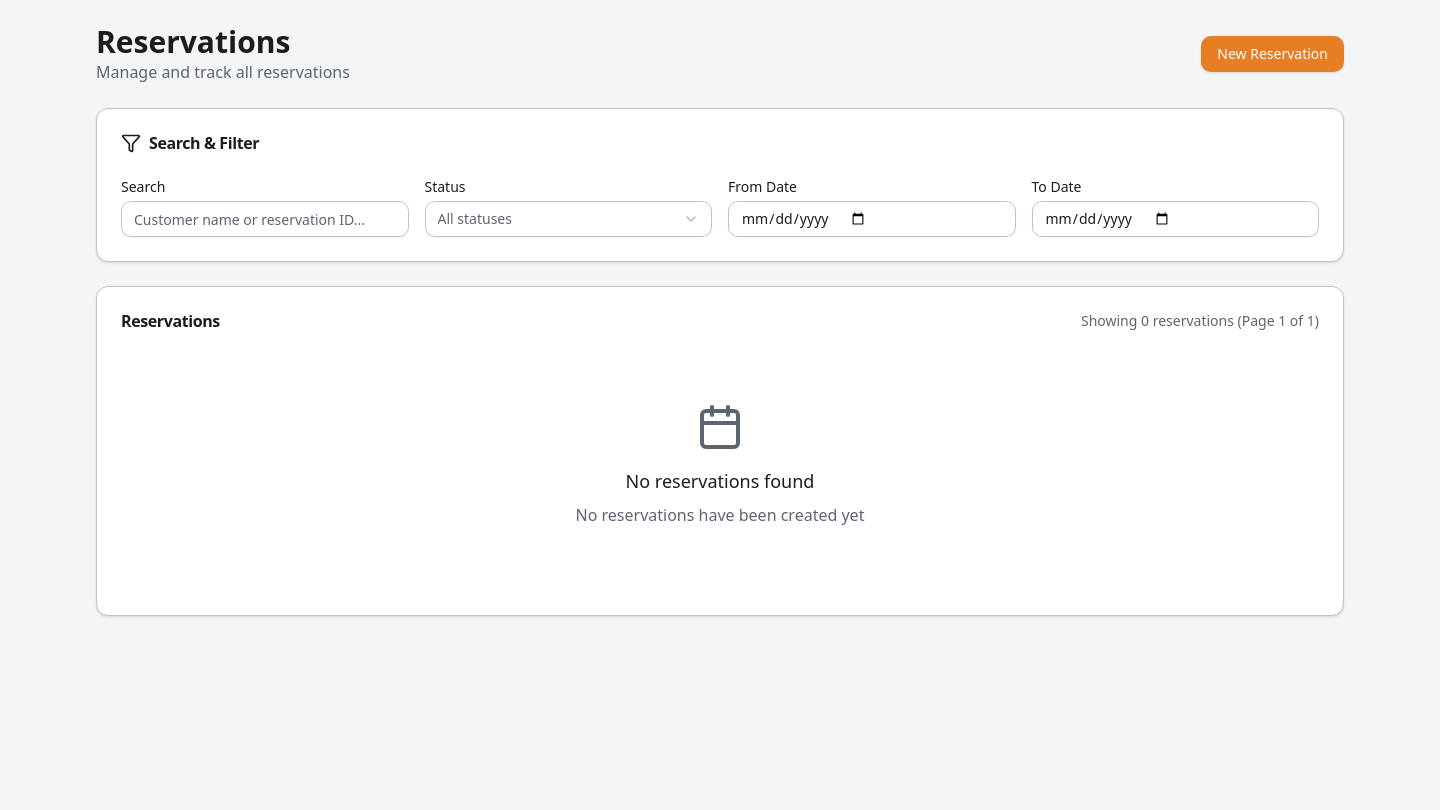
it: ReservationsPage › displays empty state with clear filters option when filters are active
// Set a filter first - use date filter which doesn't have debouncing
Type "2024-01-01" into the date field labelled "From Date" at (872, 219), box [728, 201, 1016, 237]
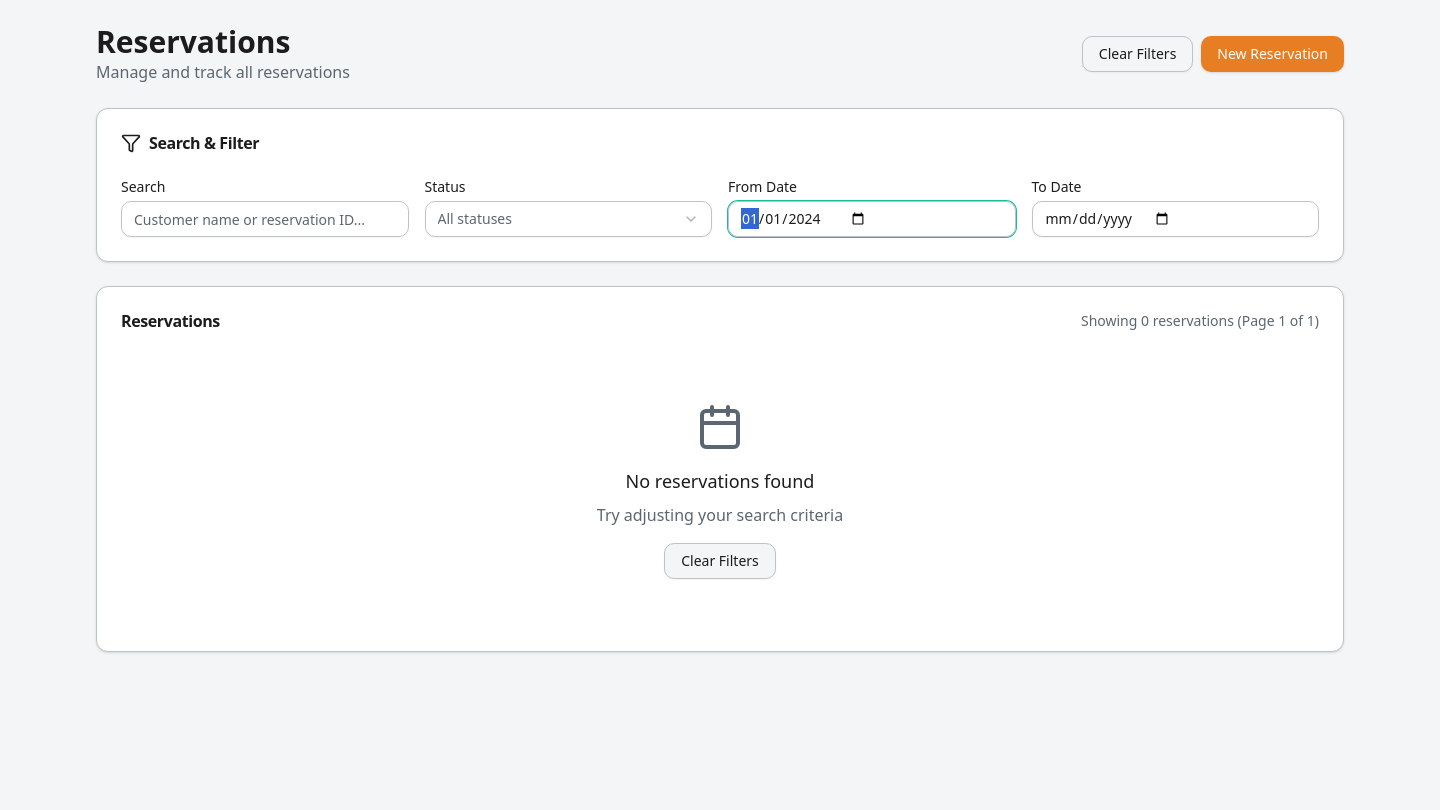
Expected: the heading "No reservations found" is shown, [626, 469, 814, 493]
Expected: the text "Try adjusting your search criteria" is shown, [597, 504, 843, 526]
